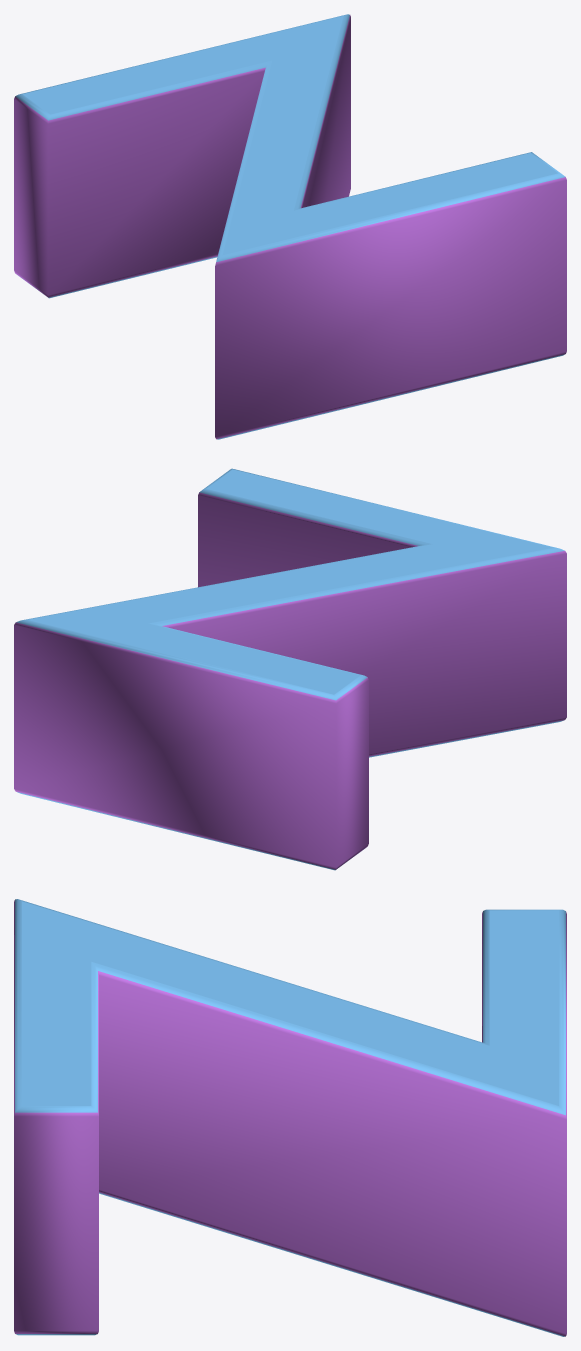
File: letter_Z.fbx
3 views of the same model, one above another, from view 1: azimuth 30°, elevation 25°; view 2: azimuth 150°, elevation 25°; view 3: azimuth 270°, elevation 25° (orthographic). The views are drawn at different scales.
Visible parts, largest first — view 1: Letter_Z; view 2: Letter_Z; view 3: Letter_Z.
Part boxes in pixels (box(x1,y1,x2,y2)): Letter_Z: box(14, 14, 566, 439); Letter_Z: box(14, 468, 566, 870); Letter_Z: box(14, 899, 566, 1336).
Bounding box in the file's own units: 65.44 × 32 × 70.2.
